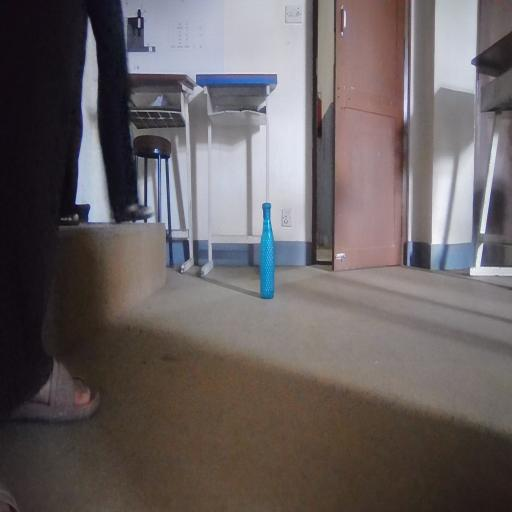Bottle: (255, 194, 319, 384)
